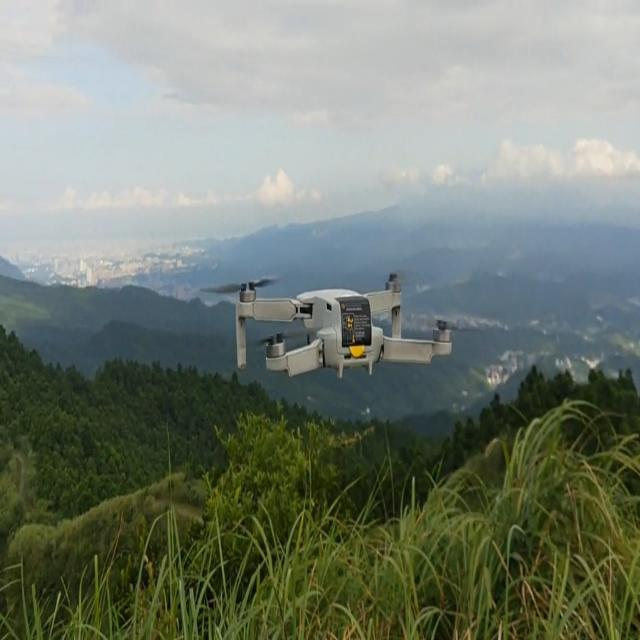Drone: (206, 220, 457, 410)
